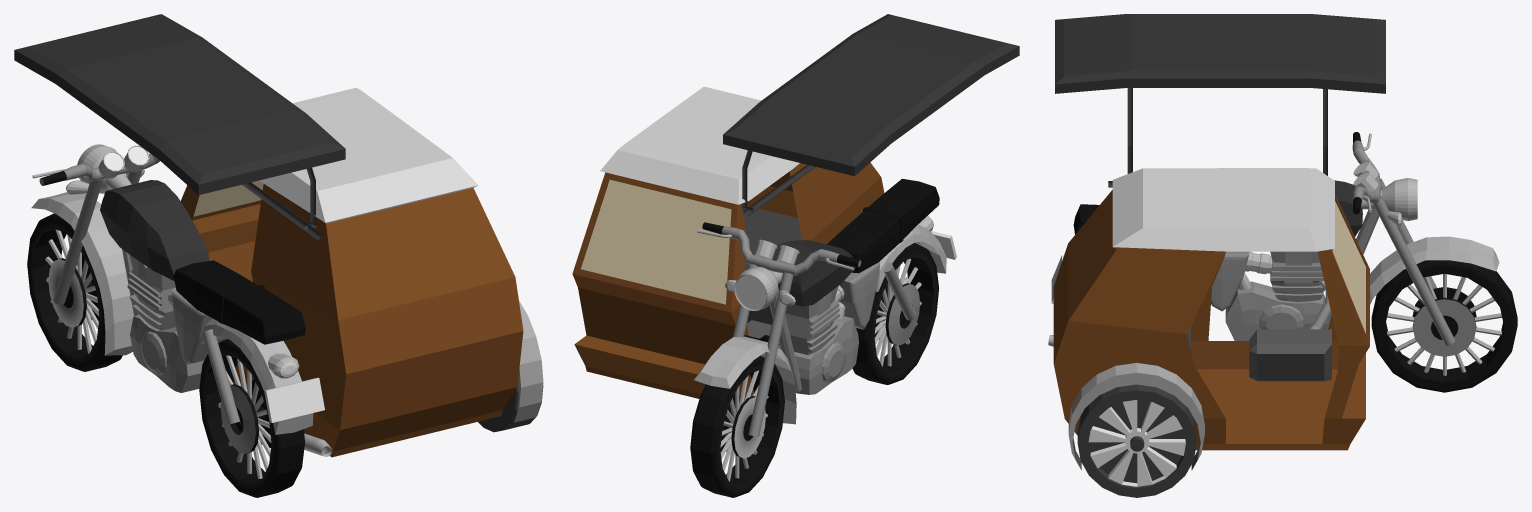
Rendered from tricy 2.fbx.
The picture shows the model from 3 angles, left to right: view 1: azimuth 30°, elevation 25°; view 2: azimuth 150°, elevation 25°; view 3: azimuth 270°, elevation 25°; orthographic projection. The views are drawn at different scales.
Parts seen in each view (by area): view 1: Cube.008; view 2: Cube.008; view 3: Cube.008.
Part boxes in pixels (x1,y1,x2,y2): Cube.008: (14,14,543,497); Cube.008: (572,14,1019,497); Cube.008: (1048,14,1517,497).
Size of the model in its own units: 1801 by 1778 by 2258.
